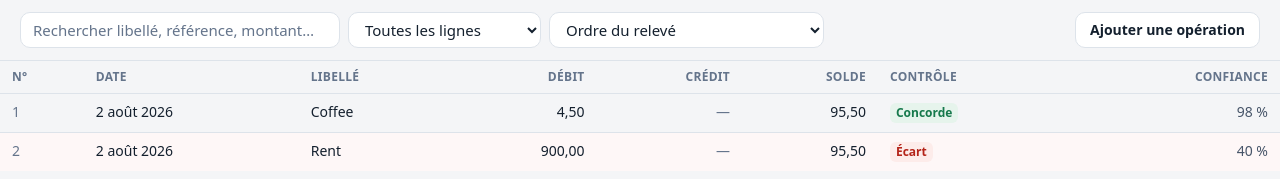
Scenario: transactions table › searches descriptions and shows original text untranslated
In the search field: {"x": 180, "y": 30} [20,12,340,48], type "rent"
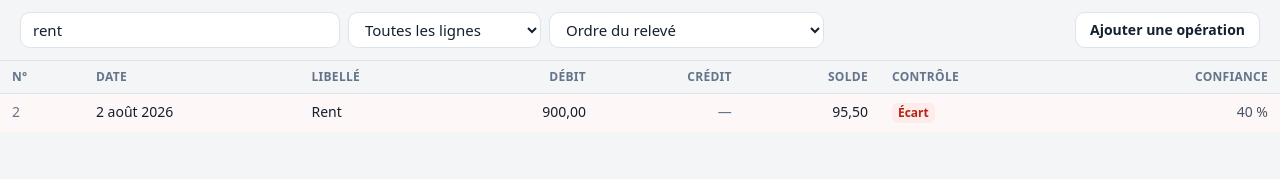
Check: the text "Rent" is shown, box [312,102,342,121]
Check: the text "Coffee" is gone
